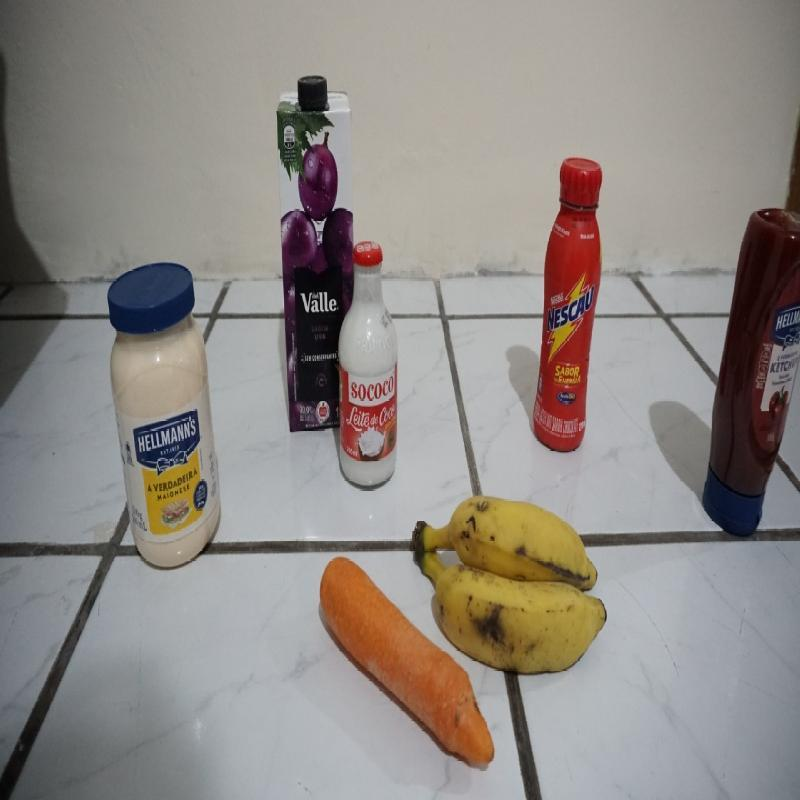Banana: (433, 493, 610, 676)
Carrot: (318, 549, 433, 761)
Chocolate Milk: (531, 156, 604, 450)
Coconut Milk: (340, 239, 399, 484)
Ketchup: (705, 203, 800, 545)
Mayonnaise: (104, 257, 226, 576)
